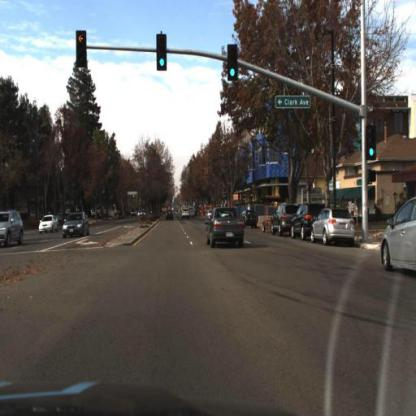car: (308, 204, 363, 255), (383, 195, 416, 279), (311, 205, 355, 243), (207, 209, 246, 251), (2, 205, 28, 254), (290, 203, 322, 240), (290, 199, 314, 246), (269, 201, 300, 237), (270, 198, 293, 238), (62, 209, 91, 240), (240, 202, 267, 234), (39, 215, 61, 236), (204, 204, 215, 228), (165, 206, 179, 224), (181, 205, 193, 222)
trafficLight-Green: (225, 40, 239, 87), (227, 53, 240, 90), (156, 51, 172, 80), (366, 141, 379, 166)
trafficLight-Red: (75, 23, 91, 52)
